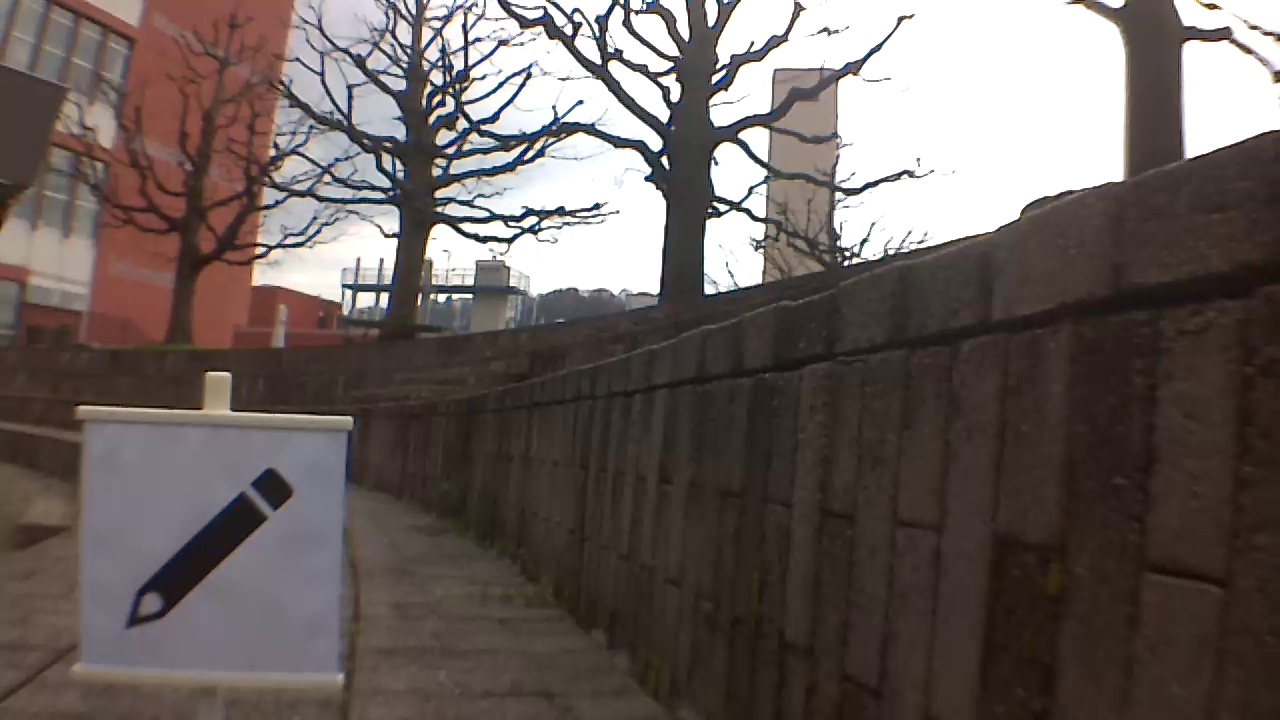pencil: (124, 469, 296, 632)
